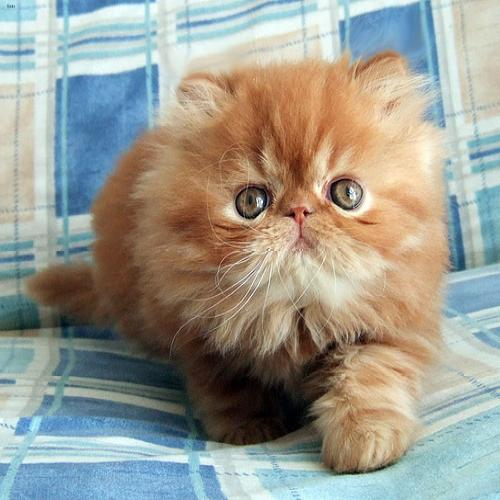persian: (164, 53, 445, 352)
